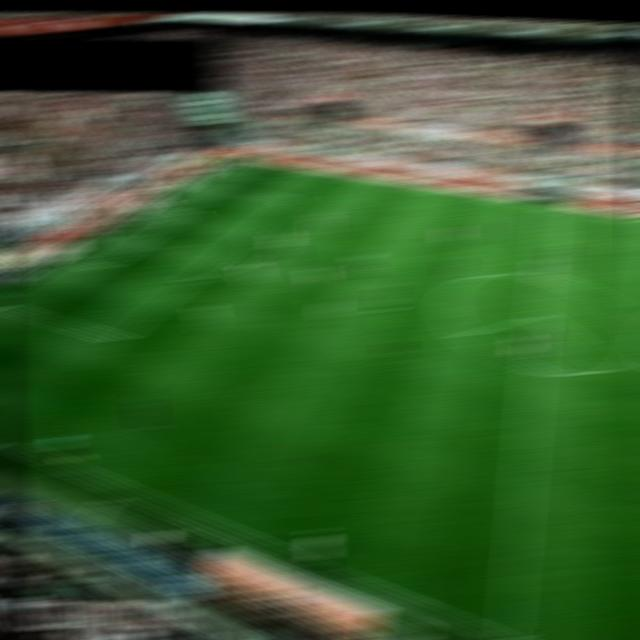bigarea_bottom_inner: (104, 332, 133, 345)
bigarea_top_inner: (277, 193, 302, 204)
bigarea_top_outter: (184, 179, 209, 189)
bottom_arc_area_intersection: (177, 271, 206, 285)
corner: (225, 157, 250, 167)
halfcircle_bottom: (521, 362, 546, 374)
halfcircle_top: (529, 273, 554, 283)
midline_bottom_intersection: (488, 630, 526, 640)
midline_top_intersection: (535, 202, 561, 213)
smallarea_bottom_inner: (90, 261, 116, 272)
smallarea_bottom_outter: (53, 253, 83, 267)
smallarea_top_inner: (173, 207, 199, 218)
smallarea_top_outter: (143, 202, 169, 213)
top_arc_area_intersection: (238, 226, 263, 236)
